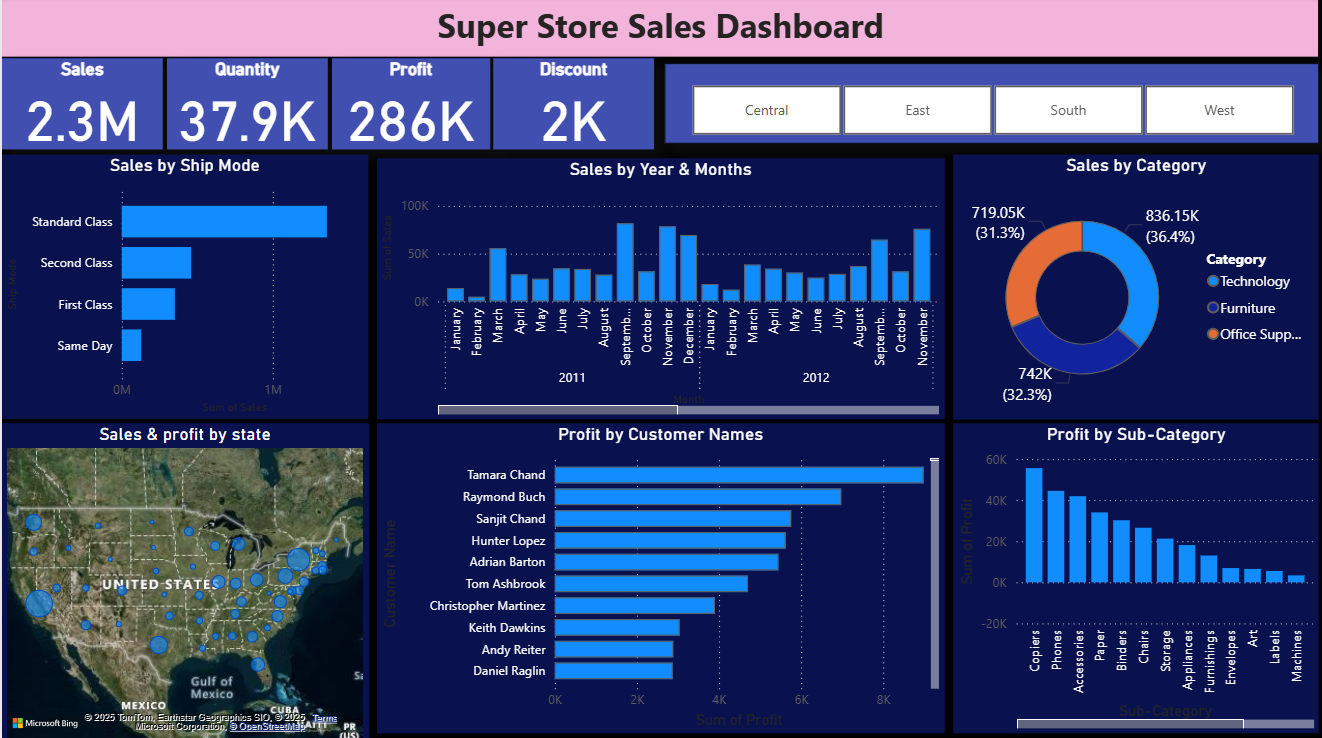

Layout of this report page (visuals, bound fields, positions):
{"tool":"powerbi","page":{"name":"Page 1","canvas":[1280,720],"ordinal":0},"visuals":[{"type":"textbox","box":[0,0,1271.6,57.9],"z":0},{"type":"card","title":"Sales","fields":{"Values":["Orders.Sales"]},"box":[0,58.7,155.3,88],"z":1000},{"type":"card","title":"Quantity","fields":{"Values":["Orders.Quantity"]},"box":[159,58.7,155.3,88],"z":2000},{"type":"card","title":"Profit","fields":{"Values":["Orders.Profit"]},"box":[317.9,58.7,152.9,88],"z":3000},{"type":"card","title":"Discount","fields":{"Values":["Orders.Discount"]},"box":[474.5,58.7,155.3,88],"z":4000},{"type":"clusteredBarChart","title":"Sales by Ship Mode","fields":{"Y":["Orders.Sales"],"Category":["Orders.Ship Mode"]},"box":[0,151.6,353.4,255.6],"z":5000},{"type":"map","title":"Sales & profit by state","fields":{"Size":["Orders.Sales"],"Category":["Orders.State"]},"box":[0,410.9,353.4,309.4],"z":6000},{"type":"slicer","fields":{"Values":["People.Region"]},"box":[639.4,63.9,632.2,77.2],"z":7000},{"type":"donutChart","title":"Sales by Category","fields":{"Y":["Orders.Sales"],"Category":["Orders.Category"]},"box":[918.1,152,353.5,255.8],"z":8000},{"type":"lineStackedColumnComboChart","title":"Sales by Year & Months","fields":{"Category":["Orders.Order Date.Variation.Date Hierarchy.Year","Orders.Order Date.Variation.Date Hierarchy.Month"],"Y":["Orders.Sales"]},"box":[361.9,155.6,547.7,252.1],"z":9000},{"type":"barChart","title":"Profit by Customer Names","fields":{"Category":["Orders.Customer Name"],"Y":["Orders.Profit"]},"box":[361.9,411.4,547.7,299.2],"z":10000},{"type":"lineClusteredColumnComboChart","title":"Profit by Sub-Category","fields":{"Y":["Orders.Profit"],"Category":["Orders.Sub-Category"]},"box":[918.1,411.4,353.5,299.2],"z":11000}]}

Visuals, with their boxes in screenshot pixels (x1, y1, x2, y2), scaled from the page's 1280x720 canvas onto the 1322x738 screenshot:
textbox: (0, 0, 1313, 59)
"Sales" card: (0, 60, 160, 150)
"Quantity" card: (164, 60, 325, 150)
"Profit" card: (328, 60, 486, 150)
"Discount" card: (490, 60, 650, 150)
"Sales by Ship Mode" clusteredBarChart: (0, 155, 365, 417)
"Sales & profit by state" map: (0, 421, 365, 737)
slicer - People.Region: (660, 65, 1313, 145)
"Sales by Category" donutChart: (948, 156, 1313, 418)
"Sales by Year & Months" lineStackedColumnComboChart: (374, 159, 939, 418)
"Profit by Customer Names" barChart: (374, 422, 939, 728)
"Profit by Sub-Category" lineClusteredColumnComboChart: (948, 422, 1313, 728)
